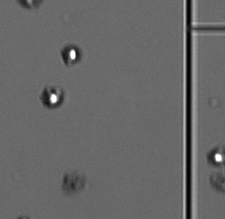Dead Cell: (59, 171, 86, 194), (17, 1, 46, 9)
Living Cell: (40, 85, 66, 108), (60, 43, 82, 65), (209, 146, 223, 166)
